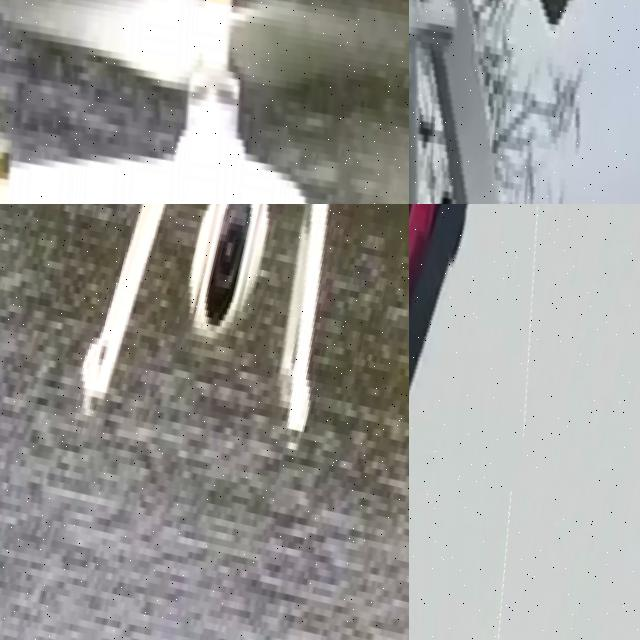drone: (409, 204, 614, 640), (0, 0, 409, 204), (409, 0, 640, 204)
